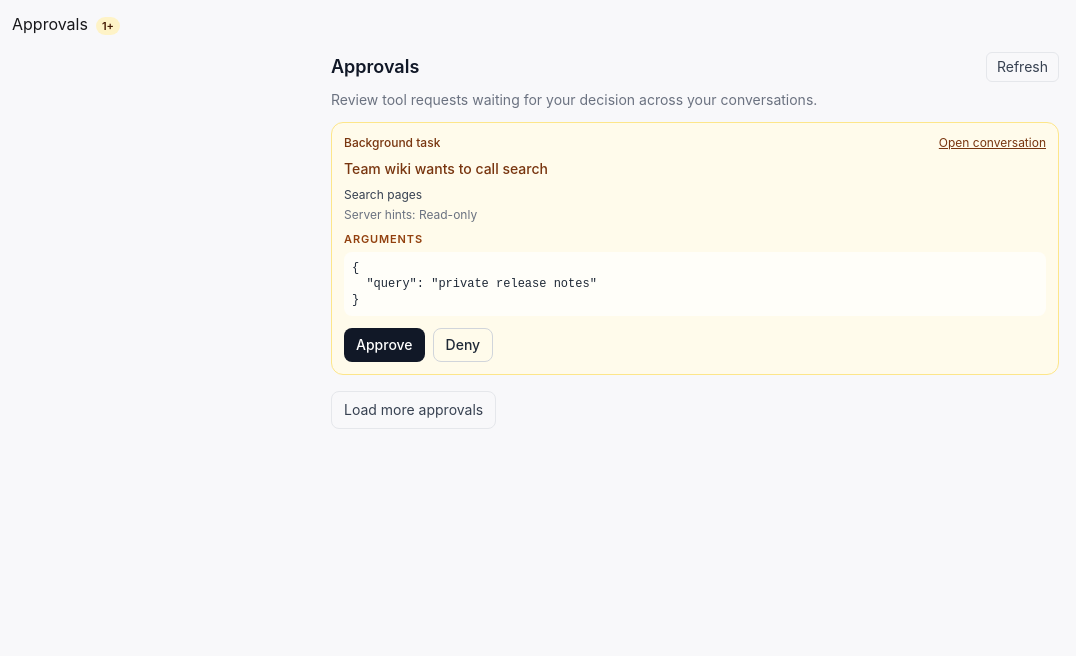
Scenario: owner tool approvals › refreshes older loaded pages so expired approvals disappear
What coordinates should you click on to do the following:
click the button "Load more approvals"
I would click on:
 (414, 410)
Its box is top-left (331, 390), bottom-right (496, 428).
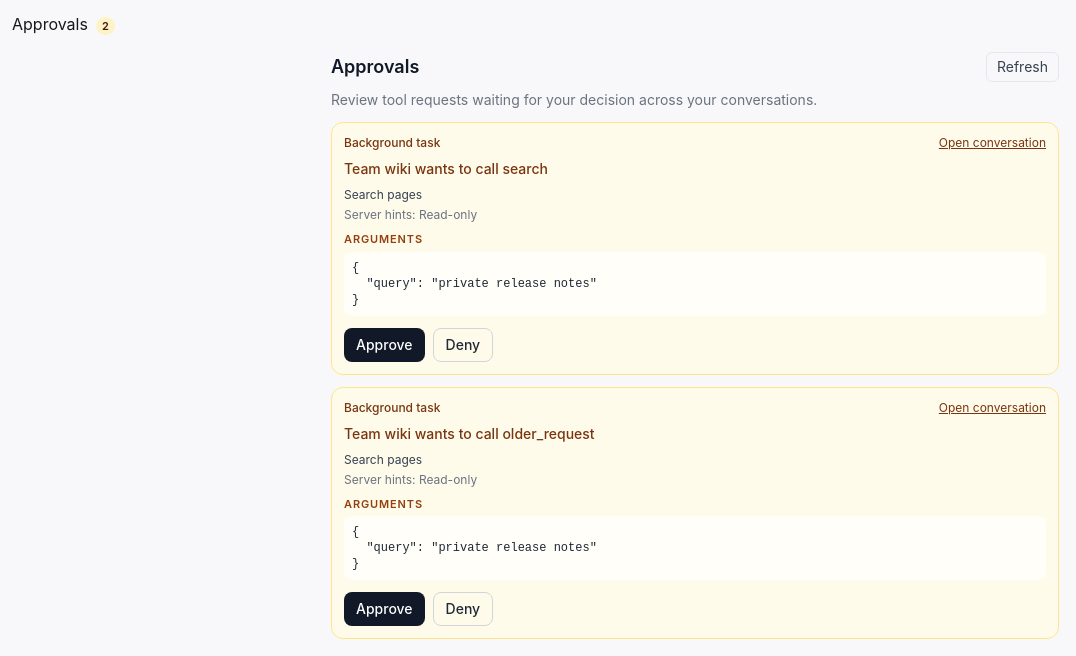
Result: the text "Team wiki wants to call older_request" is shown at top-left (344, 424), bottom-right (595, 442)
What coordinates should you click on to do the following:
click the button "Refresh"
I would click on:
 (1022, 67)
Its box is top-left (986, 52), bottom-right (1059, 82).
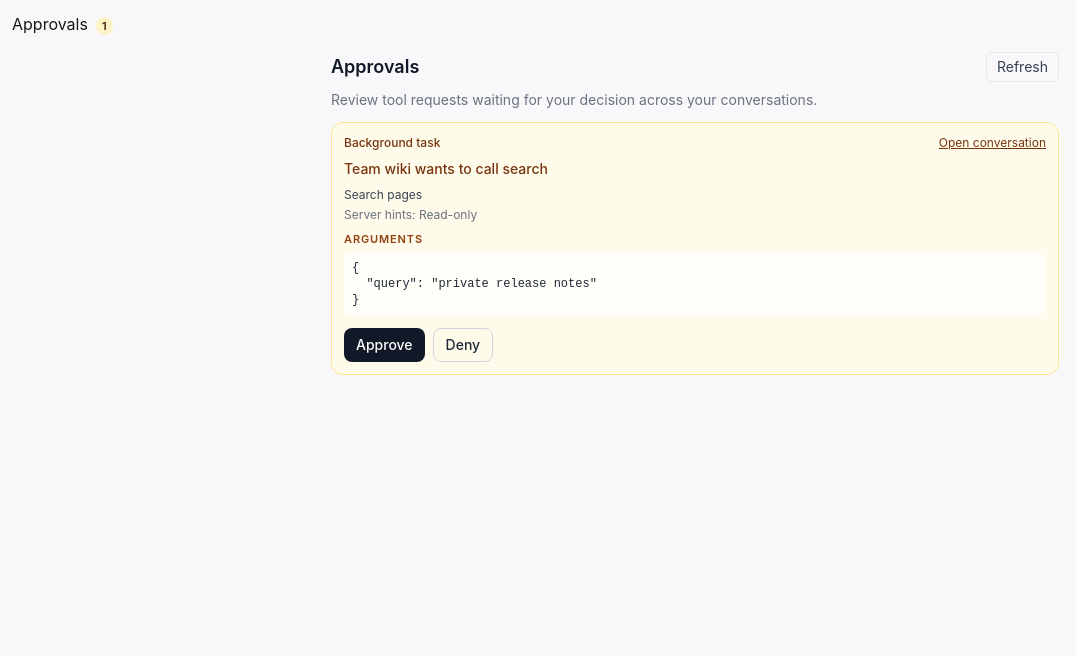
Expected: the text "Team wiki wants to call search" is shown, top-left (344, 160), bottom-right (548, 177)
Result: the text "Team wiki wants to call older_request" is gone
